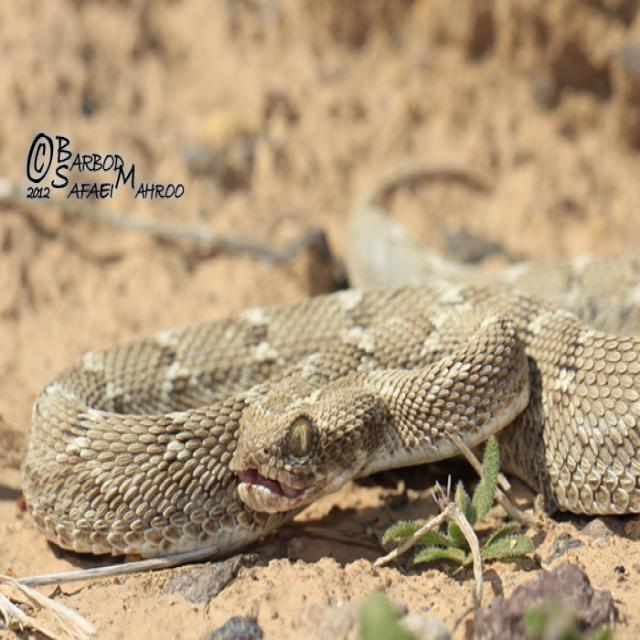Snake: (18, 162, 639, 564)
